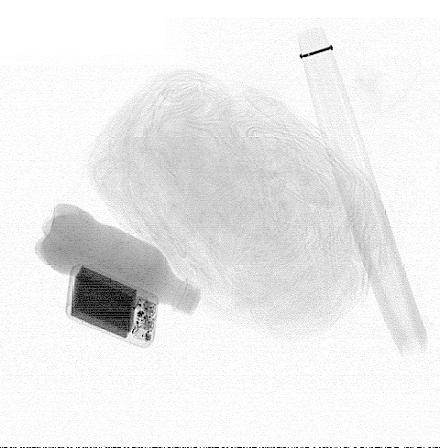Powerbank: (63, 264, 160, 350)
